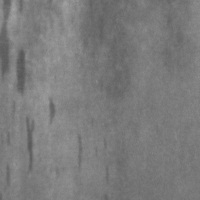inclusion: (157, 7, 185, 71), (84, 4, 111, 69), (90, 133, 113, 192), (12, 39, 32, 101), (2, 99, 25, 149), (21, 114, 39, 176), (71, 132, 88, 176), (44, 95, 62, 127), (1, 157, 16, 193)
